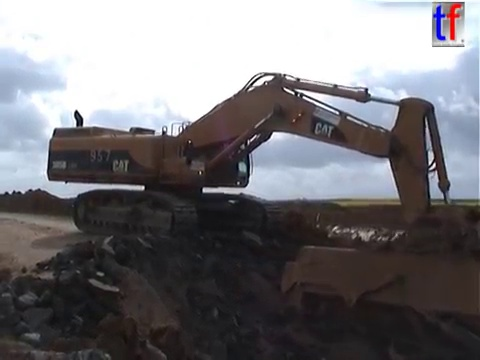excavator: (43, 69, 462, 293)
truck: (277, 203, 480, 360)
